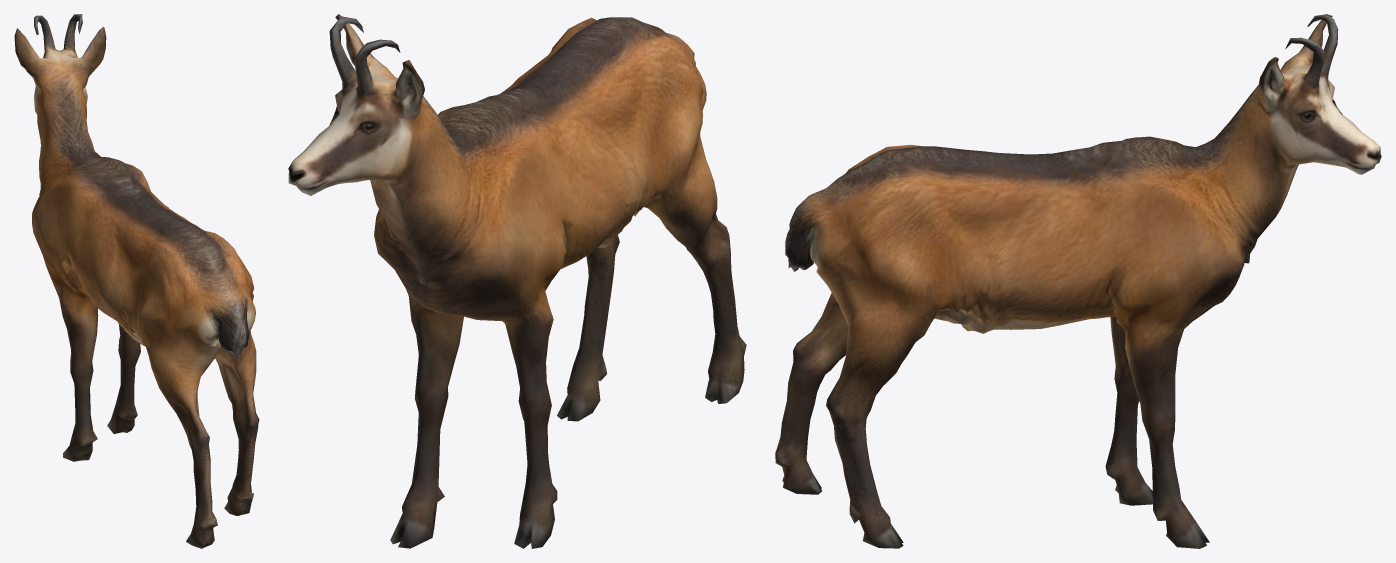
Rendered from gaemse.glb.
3 renders of one model, left to right at view 1: azimuth 30°, elevation 25°; view 2: azimuth 150°, elevation 25°; view 3: azimuth 270°, elevation 25°, orthographic. The views are drawn at different scales.
Visible parts, largest first — view 1: tripo_node_6544106e-ddf2-4fb2-ad85-a905d4d18c3f; view 2: tripo_node_6544106e-ddf2-4fb2-ad85-a905d4d18c3f; view 3: tripo_node_6544106e-ddf2-4fb2-ad85-a905d4d18c3f.
Part boxes in pixels (x1,y1,x2,y2): tripo_node_6544106e-ddf2-4fb2-ad85-a905d4d18c3f: (14,14,259,548); tripo_node_6544106e-ddf2-4fb2-ad85-a905d4d18c3f: (288,14,746,548); tripo_node_6544106e-ddf2-4fb2-ad85-a905d4d18c3f: (775,14,1381,548).
Bounding box in the file's own units: 0.2611 × 0.9261 × 1.
1 material, 1 textured.
